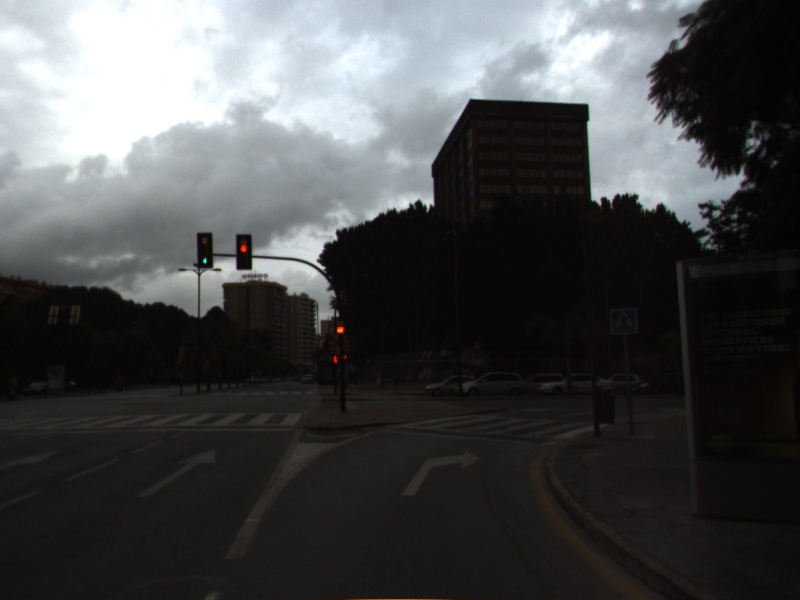RIGHT: (399, 447, 483, 498)
STRAIGHT: (135, 445, 218, 499)
